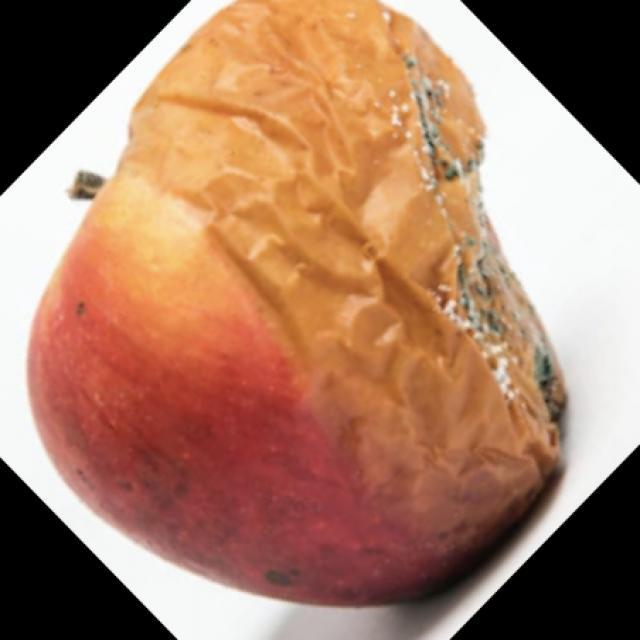Rotten: (60, 11, 565, 582)
